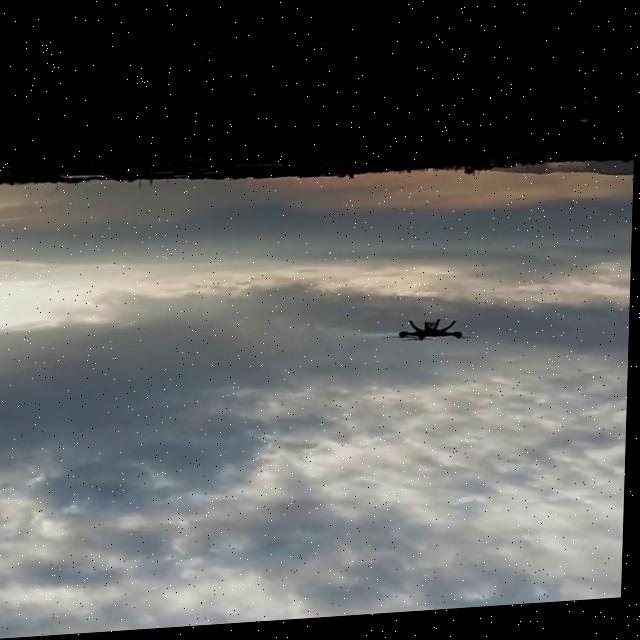drone: (388, 321, 475, 357)
